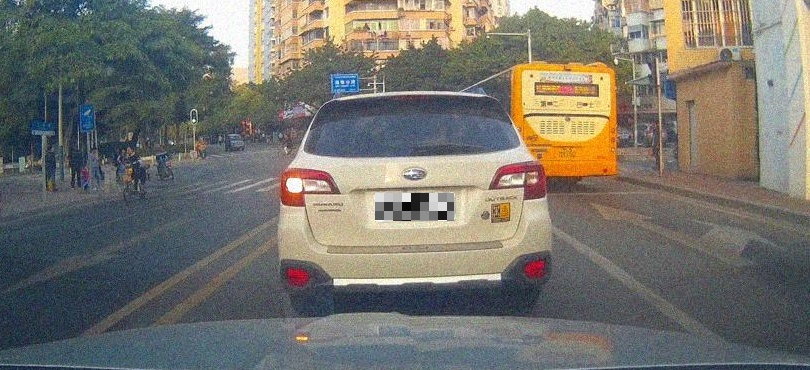L_light: (280, 168, 342, 207)
R_light: (488, 160, 547, 201)
T_light: (393, 95, 432, 100)
day-left: (277, 90, 552, 317)
plate_1: (375, 193, 454, 221)
